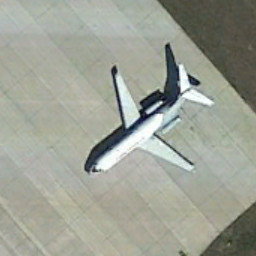Airplane: (79, 47, 219, 187)
